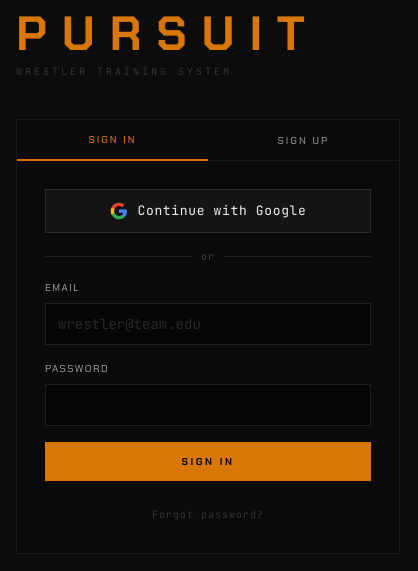
Scenario: Auth › toggles between sign in and sign up
Expected: the submit button reads "SIGN IN", [45,442,371,481]
Click the SIGN UP tab
Click the button "SIGN UP". click: click(304, 140)
box: [208,120,399,160]
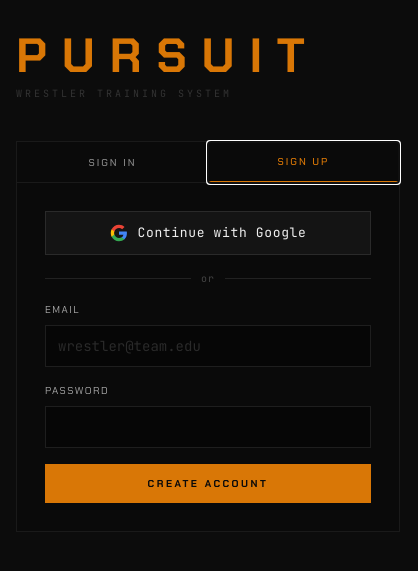
Expected: the submit button reads "CREATE ACCOUNT", [45,464,371,503]
